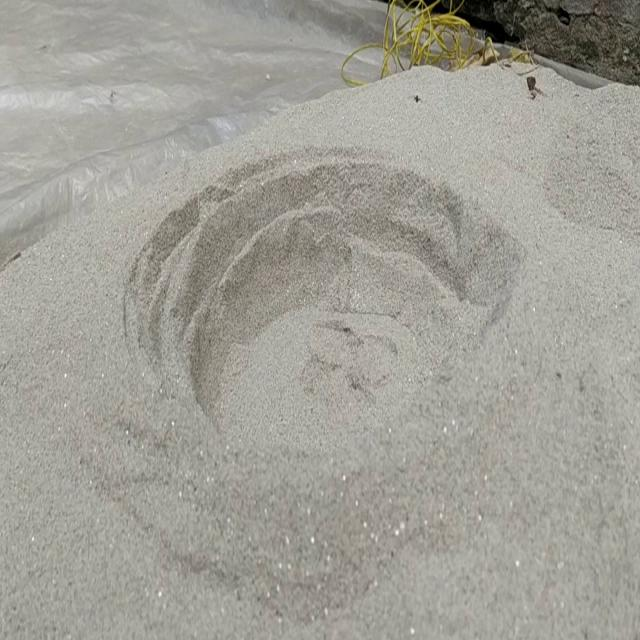C20: (136, 160, 516, 451)
